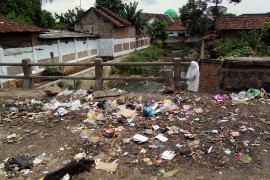trash: (21, 77, 260, 166)
